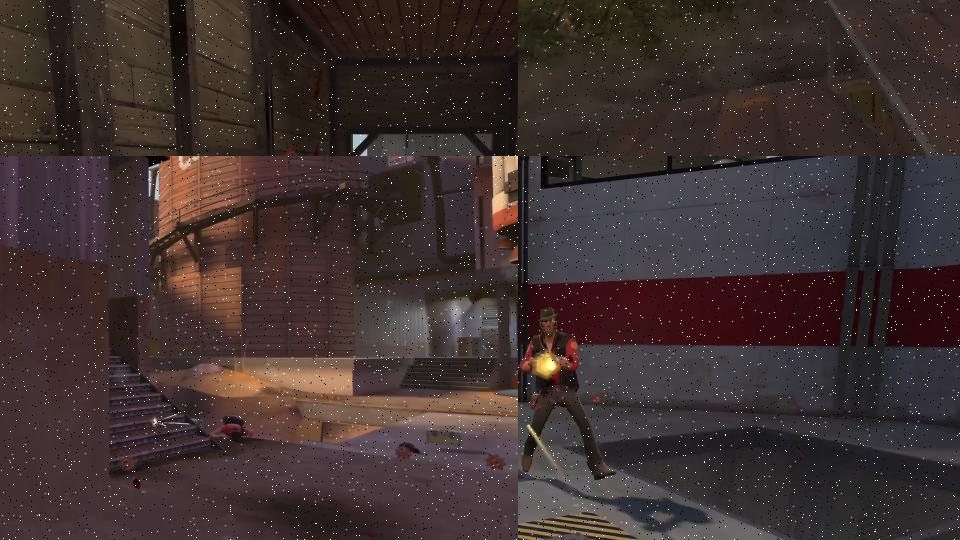Enemy: (519, 308, 616, 482), (209, 415, 253, 442)
